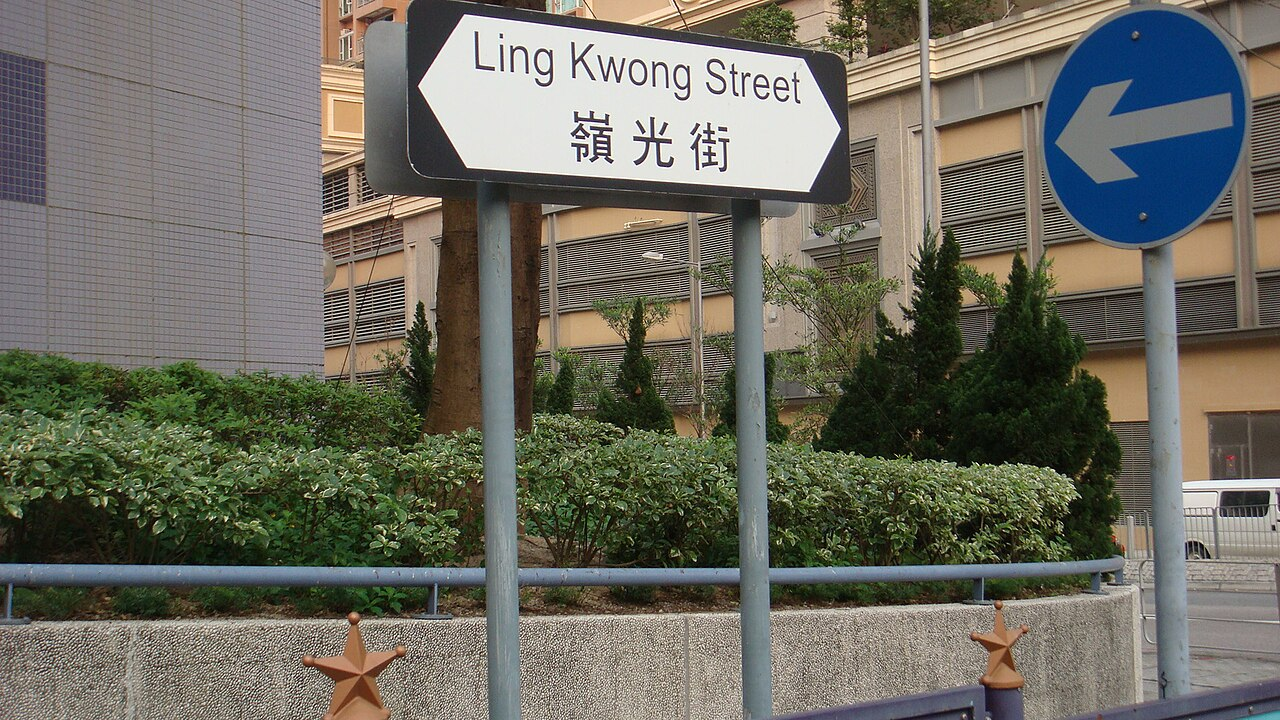Turn Left: (1037, 5, 1250, 253)
